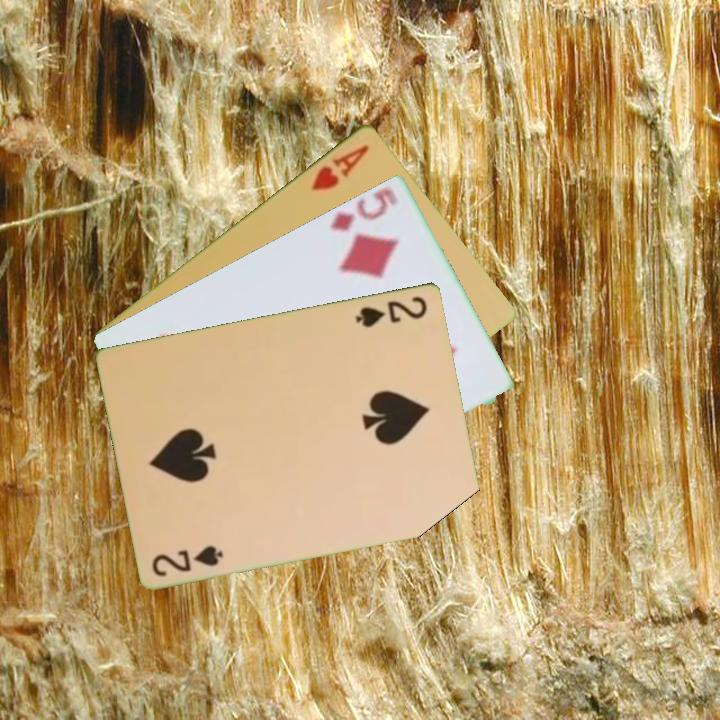2s: (352, 292, 430, 330), (149, 541, 227, 579)
5d: (326, 184, 401, 234)
Ah: (307, 140, 372, 193)
